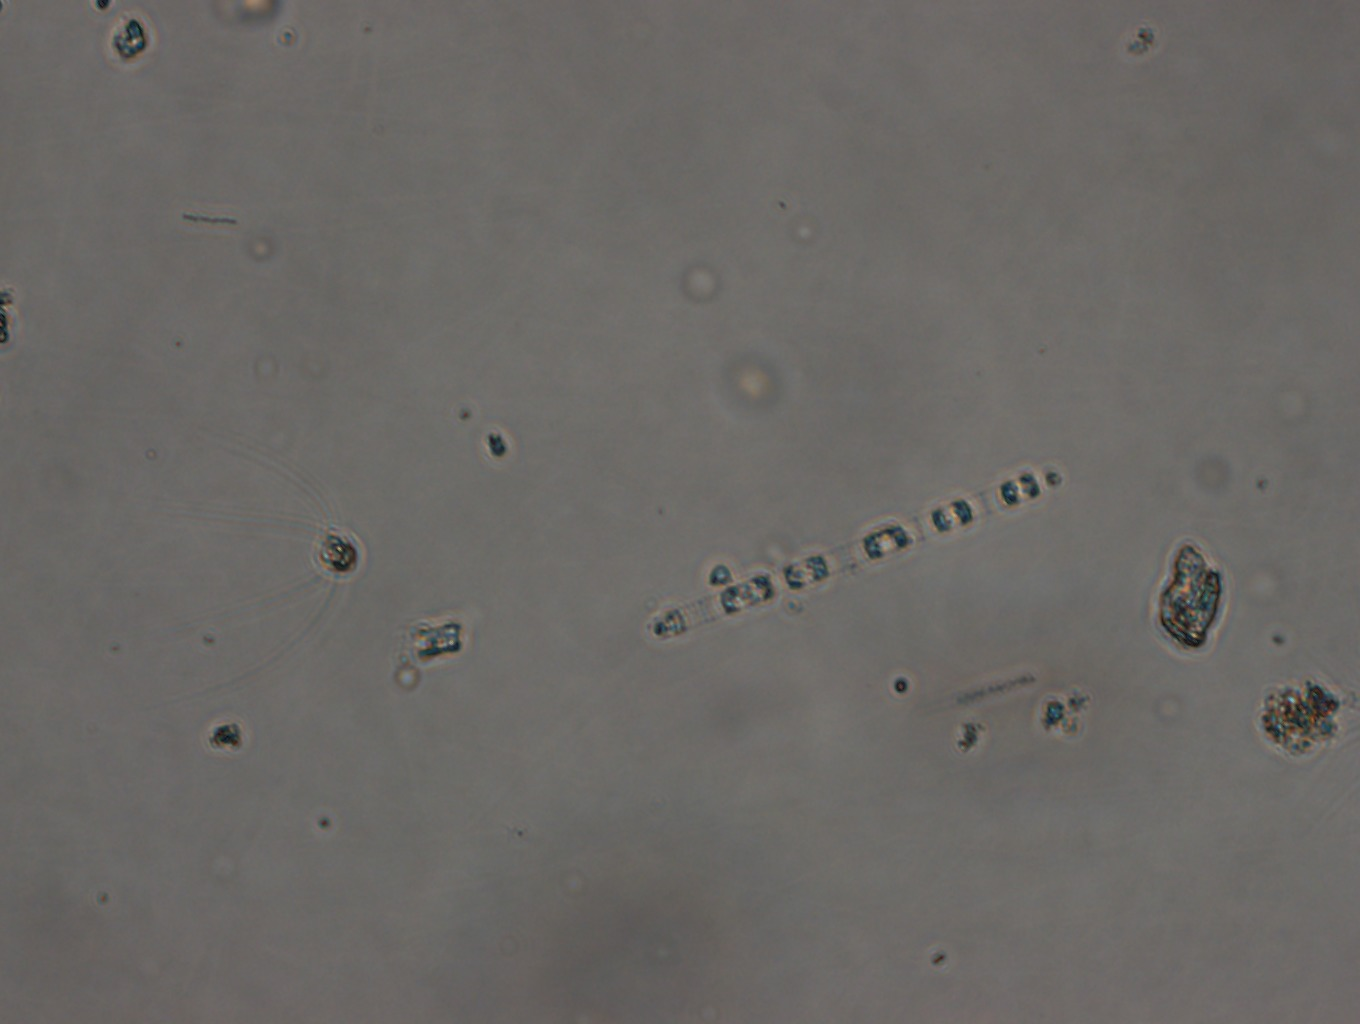skeletonema: (638, 445, 1075, 643)
